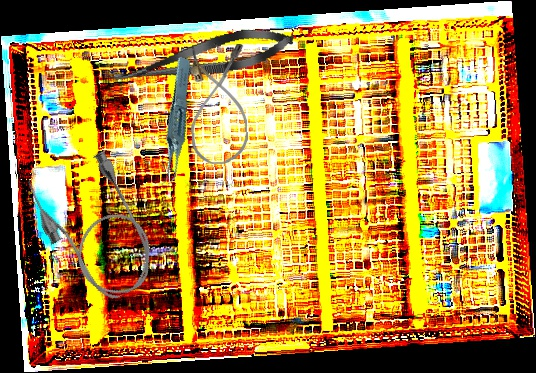Cannula: (19, 142, 170, 314), (189, 43, 249, 165)
Micro Scissor: (103, 20, 298, 97)
Tissue Forceps: (132, 55, 217, 190)
